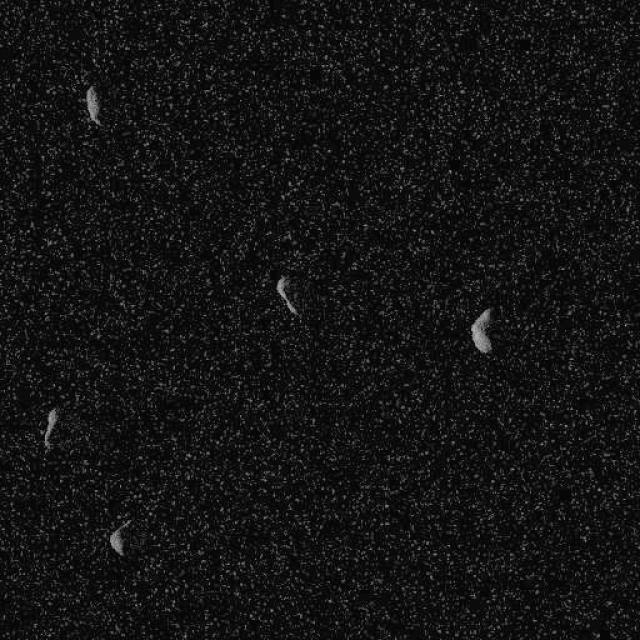D2: (468, 305, 494, 354), (274, 272, 298, 316), (108, 518, 132, 556), (84, 84, 101, 125), (42, 406, 58, 445)
